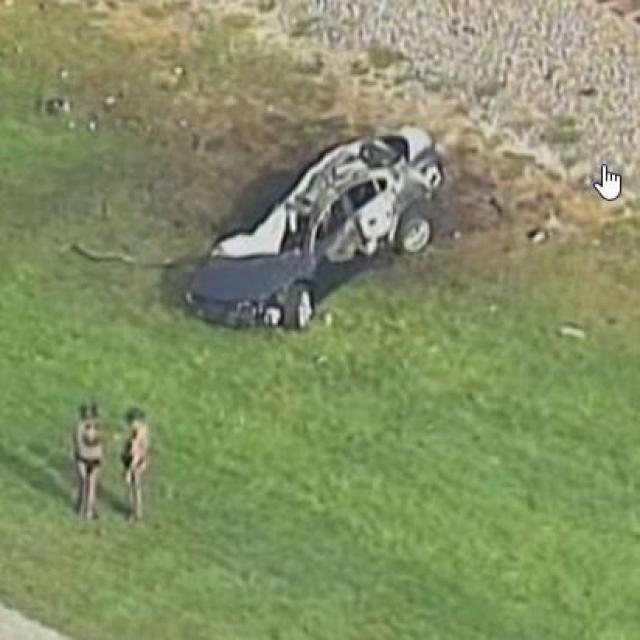traffic_incident: (179, 87, 438, 343)
